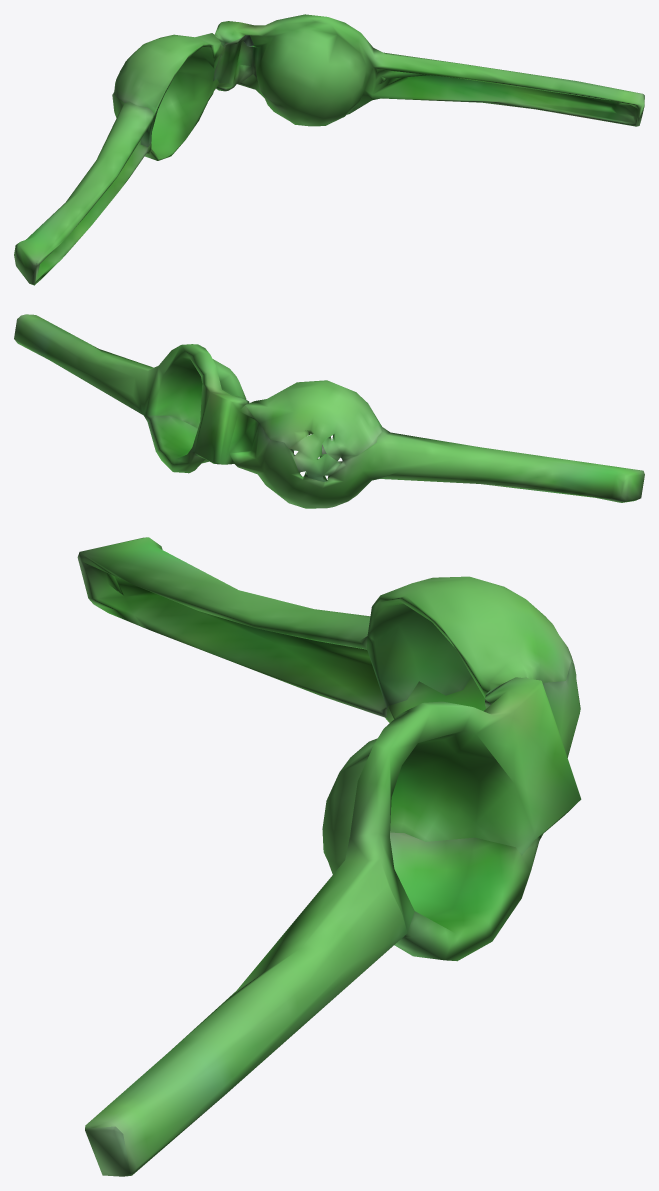
The model's file is Focus_8643_Lime_Squeezer_10x35x188_Enamelled_Aluminum_Light-medium.glb.
The picture shows the model from 3 angles, top to bottom: view 1: azimuth 30°, elevation 25°; view 2: azimuth 150°, elevation 25°; view 3: azimuth 270°, elevation 25°; orthographic projection. The views are drawn at different scales.
Parts seen in each view (by area): view 1: Focus_8643_Lime_Squeezer_10x35x188_Enamelled_Aluminum_Light; view 2: Focus_8643_Lime_Squeezer_10x35x188_Enamelled_Aluminum_Light; view 3: Focus_8643_Lime_Squeezer_10x35x188_Enamelled_Aluminum_Light.
Part boxes in pixels (x1,y1,x2,y2): Focus_8643_Lime_Squeezer_10x35x188_Enamelled_Aluminum_Light: [14, 14, 644, 285]; Focus_8643_Lime_Squeezer_10x35x188_Enamelled_Aluminum_Light: [14, 314, 644, 508]; Focus_8643_Lime_Squeezer_10x35x188_Enamelled_Aluminum_Light: [77, 537, 581, 1176].
Bounding box in the file's own units: 0.3345 × 0.0629 × 0.1181.
Materials: 1 (1 with a texture image).
